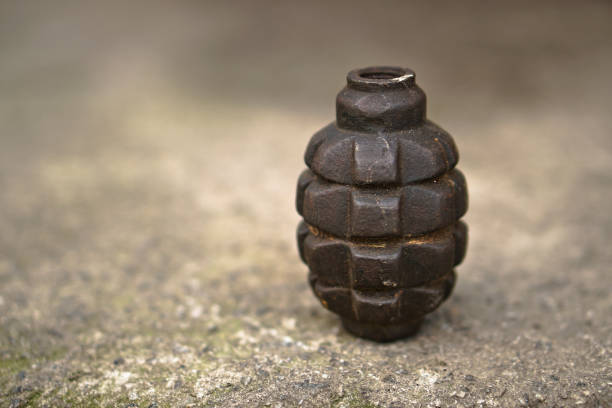e1: (293, 67, 474, 341)
